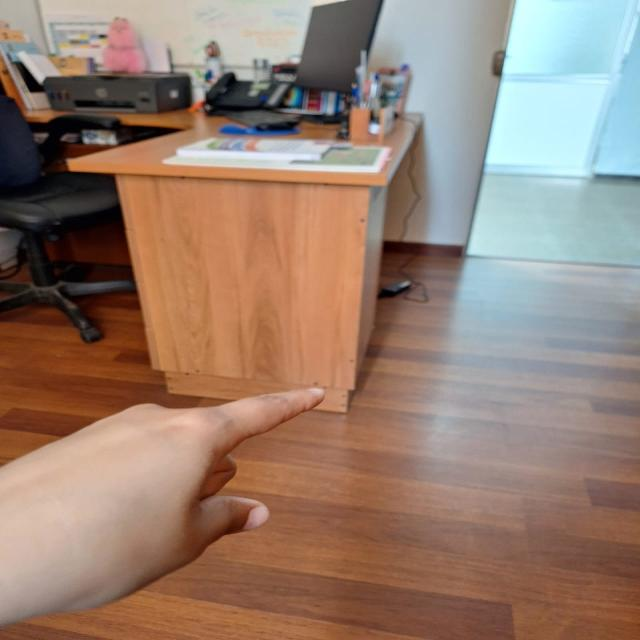S: (0, 375, 350, 625)
